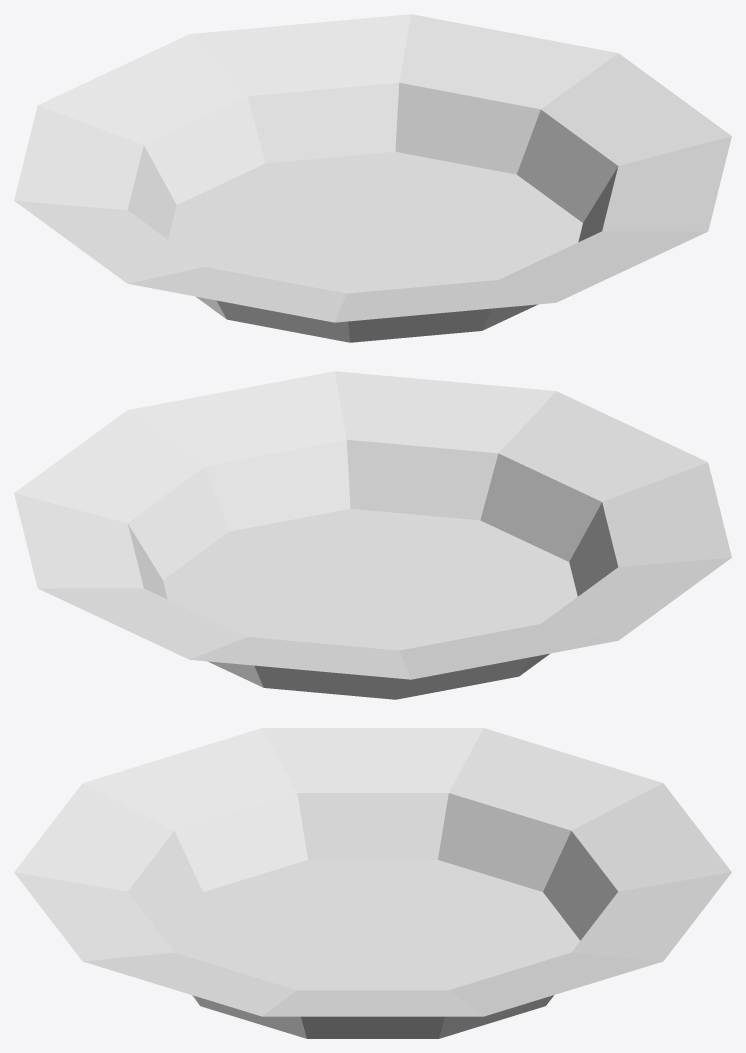
File: tableplatesoup01.gltf
The picture shows the model from 3 angles, top to bottom: view 1: azimuth 30°, elevation 25°; view 2: azimuth 150°, elevation 25°; view 3: azimuth 270°, elevation 25°; orthographic projection. The views are drawn at different scales.
Visible parts, largest first — view 1: Cylinder.001; view 2: Cylinder.001; view 3: Cylinder.001.
Boxes of the visible parts, box(x1,y1,x2,y2) form: Cylinder.001: box(14, 14, 731, 342); Cylinder.001: box(14, 371, 731, 699); Cylinder.001: box(14, 728, 731, 1038).
Bounding box in the file's own units: 0.2679 × 0.035 × 0.2817.
1 material, 1 textured.
